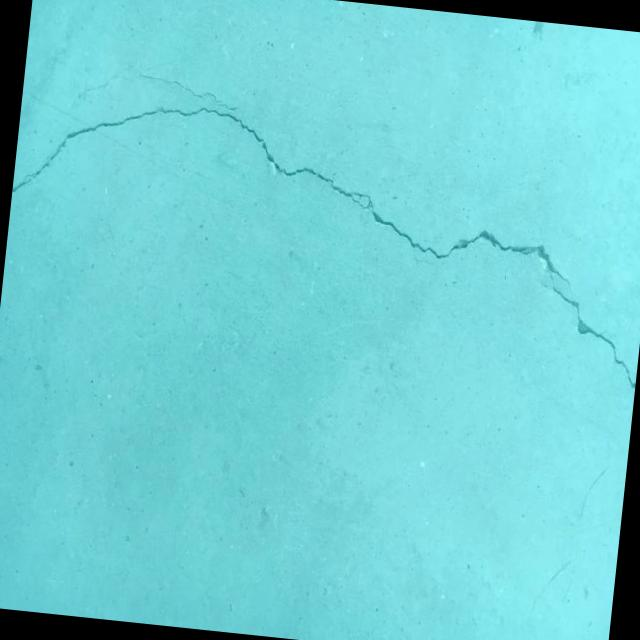crack: (0, 61, 640, 388), (68, 59, 134, 116)
